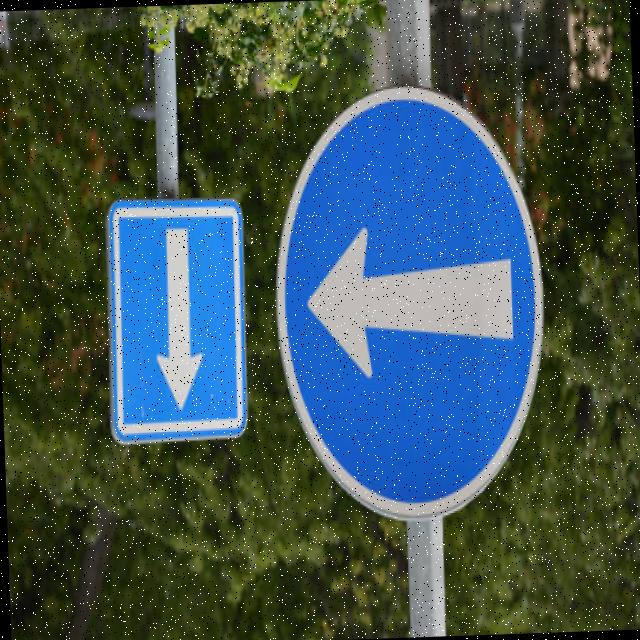compulsory_keep_right: (264, 78, 553, 530)
